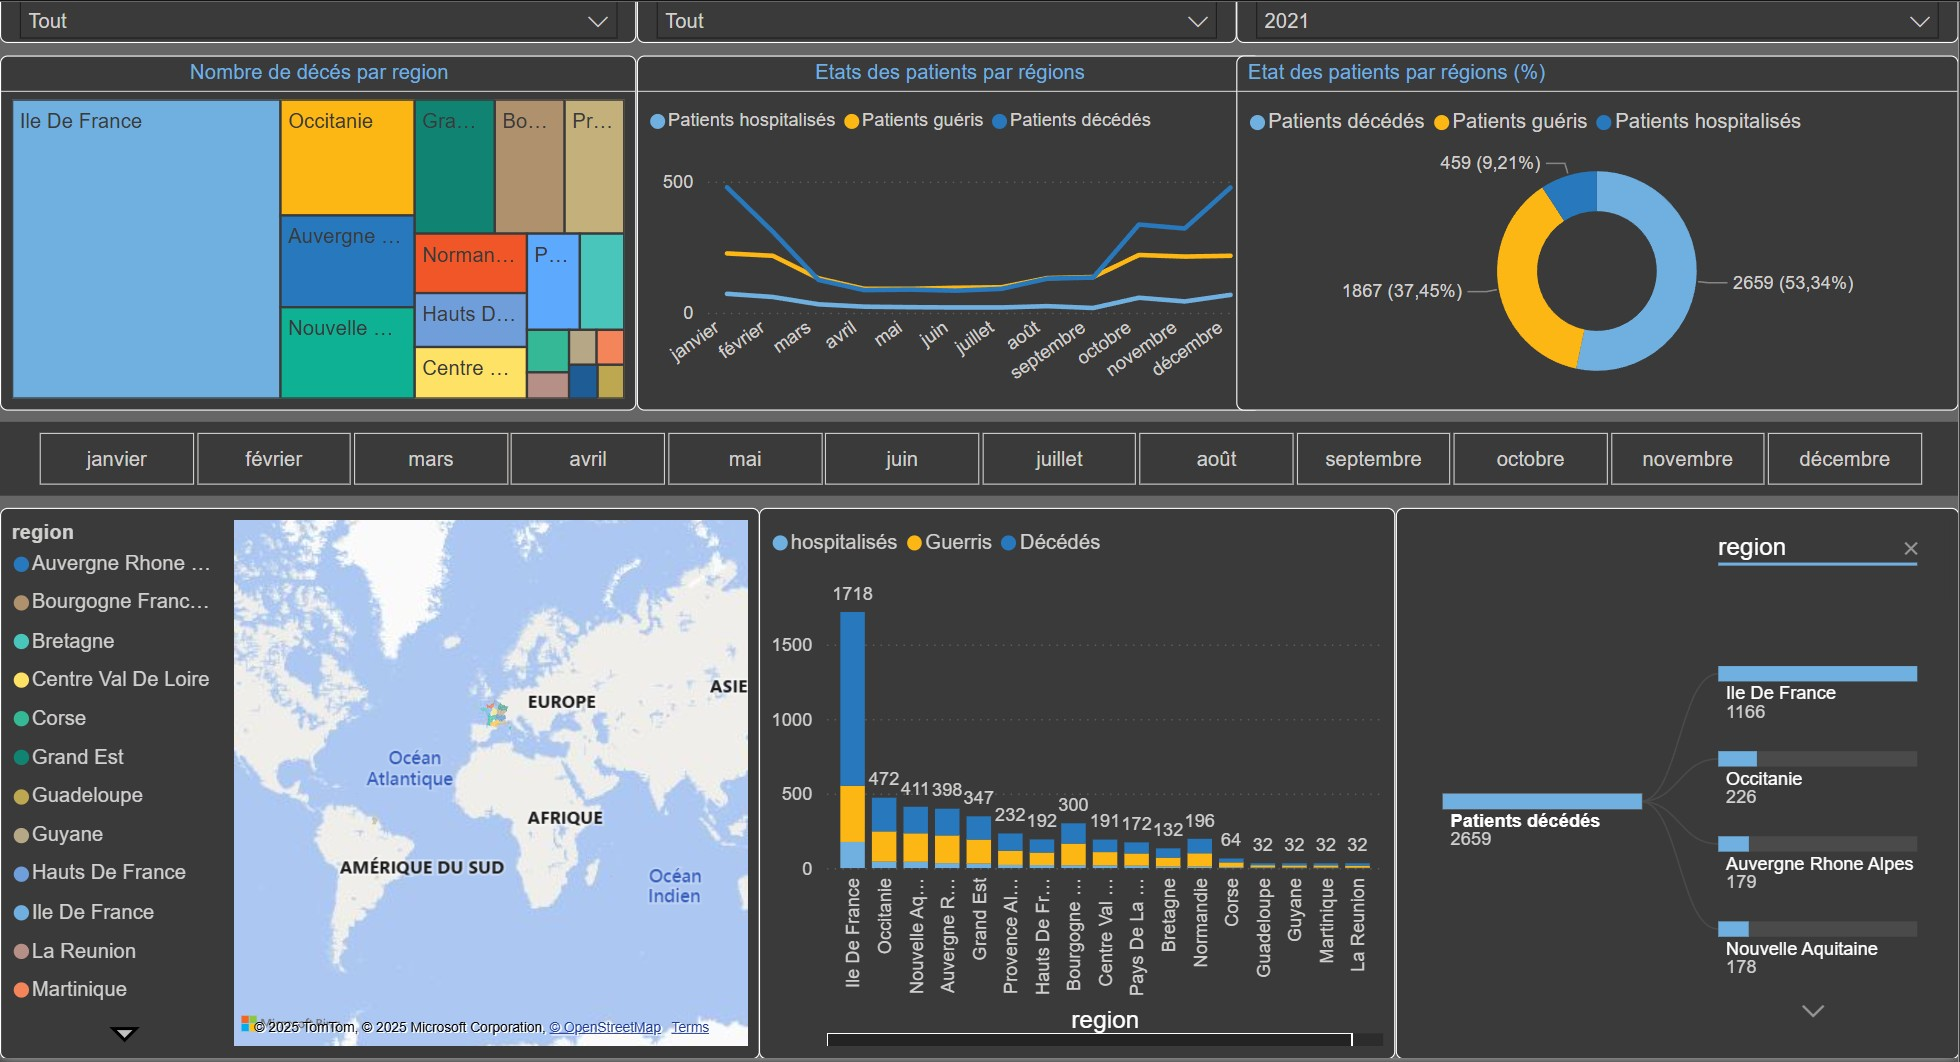

The page's visual inventory and layout, read from the dashboard file:
{"tool":"powerbi","page":{"name":"Statistique COVID-19 en 2021","canvas":[1280,720],"ordinal":0},"visuals":[{"type":"filledMap","fields":{"Category":["dtm patients_par_axes.departement"],"Series":["dtm patients_par_axes.region"]},"box":[0,360,496.7,360],"z":0},{"type":"slicer","fields":{"Values":["dtm patients_par_axes.Mois (Janvier à Décembre)"]},"box":[0,304,1280,48],"z":1000},{"type":"columnChart","fields":{"Category":["dtm patients_par_axes.region"],"Y":["Sum(dtm patients_par_axes.nbre_patients_en_hosp)","Sum(dtm patients_par_axes.Patients guéris)","Sum(dtm patients_par_axes.Patients décédés)"]},"box":[496,360,416,360],"z":2000},{"type":"lineChart","title":"Etats des patients par régions","fields":{"Y":["Sum(dtm patients_par_axes.Patients hospitalisés)","Sum(dtm patients_par_axes.Patients guéris)","Sum(dtm patients_par_axes.Patients décédés)"],"Category":["dtm patients_par_axes.Mois (Janvier à Décembre)"]},"box":[416,64,408,232],"z":3000},{"type":"donutChart","title":"Etat des patients par régions (%)","fields":{"Y":["Sum(dtm patients_par_axes.Patients décédés)","Sum(dtm patients_par_axes.Patients guéris)","Sum(dtm patients_par_axes.Patients hospitalisés)"]},"box":[808,64,472,232],"z":4000},{"type":"treemap","title":"Nombre de décés par region","fields":{"Values":["Sum(dtm patients_par_axes.Patients décédés)"],"Group":["dtm patients_par_axes.region"]},"box":[0,64,416,232],"z":5000},{"type":"decompositionTreeVisual","fields":{"ExplainBy":["dtm patients_par_axes.region"],"Analyze":["Sum(dtm patients_par_axes.Patients décédés)"]},"box":[912,360,368,360],"z":6000},{"type":"slicer","title":"Filtre région","fields":{"Values":["dtm patients_par_axes.region"]},"box":[0,0,416,56],"z":7000},{"type":"slicer","title":"Filtre département","fields":{"Values":["dtm patients_par_axes.departement"]},"box":[416,0,392,56],"z":8000},{"type":"slicer","title":"filtre Année","fields":{"Values":["dtm patients_par_axes.annee"]},"box":[808,0,472,56],"z":9000}]}

Visuals, with their boxes in screenshot pixels (x1, y1, x2, y2):
filledMap - dtm patients_par_axes.departement x dtm patients_par_axes.region: bbox=[0, 512, 746, 1061]
slicer - dtm patients_par_axes.Mois (Janvier à Décembre): bbox=[0, 424, 1959, 499]
columnChart - dtm patients_par_axes.region x Sum(dtm patients_par_axes.nbre_patients_en_hosp): bbox=[745, 512, 1395, 1061]
"Etats des patients par régions" lineChart: bbox=[620, 49, 1257, 412]
"Etat des patients par régions (%)" donutChart: bbox=[1232, 49, 1959, 412]
"Nombre de décés par region" treemap: bbox=[0, 49, 620, 412]
decompositionTreeVisual - dtm patients_par_axes.region x Sum(dtm patients_par_axes.Patients décédés): bbox=[1395, 512, 1959, 1061]
"Filtre région" slicer: bbox=[0, 0, 620, 36]
"Filtre département" slicer: bbox=[620, 0, 1232, 36]
"filtre Année" slicer: bbox=[1232, 0, 1959, 36]
